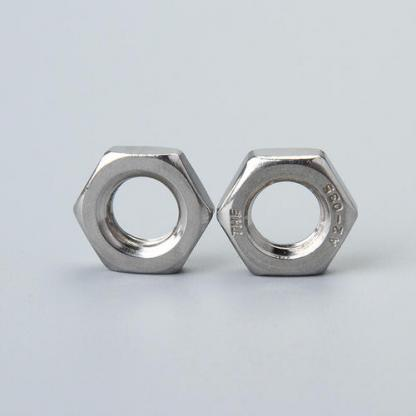FOD: (217, 146, 362, 284), (73, 141, 214, 278)
